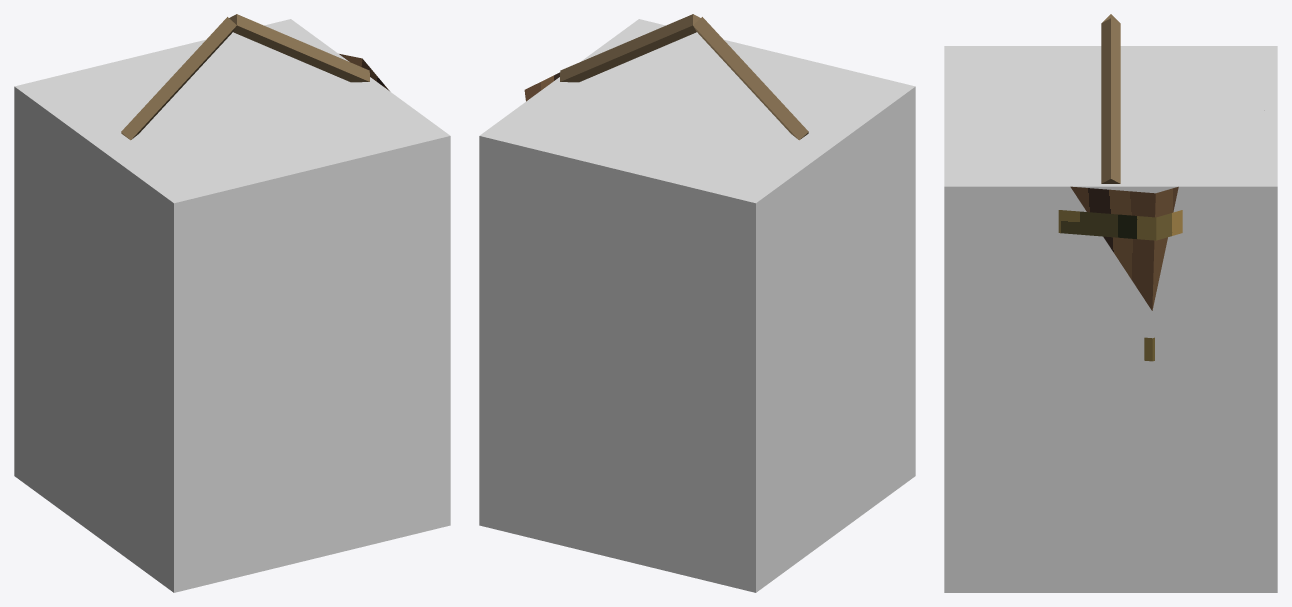
File: JP_Prop_Buckets_A.glb
3 views of the same model, side by side, from view 1: azimuth 30°, elevation 25°; view 2: azimuth 150°, elevation 25°; view 3: azimuth 270°, elevation 25° (orthographic). The views are drawn at different scales.
Parts seen in each view (by area): view 1: COL_JP_Prop_Buckets_A, JP_Prop_Buckets_A; view 2: COL_JP_Prop_Buckets_A, JP_Prop_Buckets_A; view 3: COL_JP_Prop_Buckets_A, JP_Prop_Buckets_A.
Boxes of the visible parts, x1,y1,x2,y2 form: COL_JP_Prop_Buckets_A: (14,19,450,592); JP_Prop_Buckets_A: (121,14,389,140); COL_JP_Prop_Buckets_A: (479,19,915,592); JP_Prop_Buckets_A: (524,14,808,140); COL_JP_Prop_Buckets_A: (944,46,1277,592); JP_Prop_Buckets_A: (1058,14,1182,361).
Bounding box in the file's own units: 0.5483 × 0.8726 × 0.52.
Materials: 3 (3 with a texture image).
